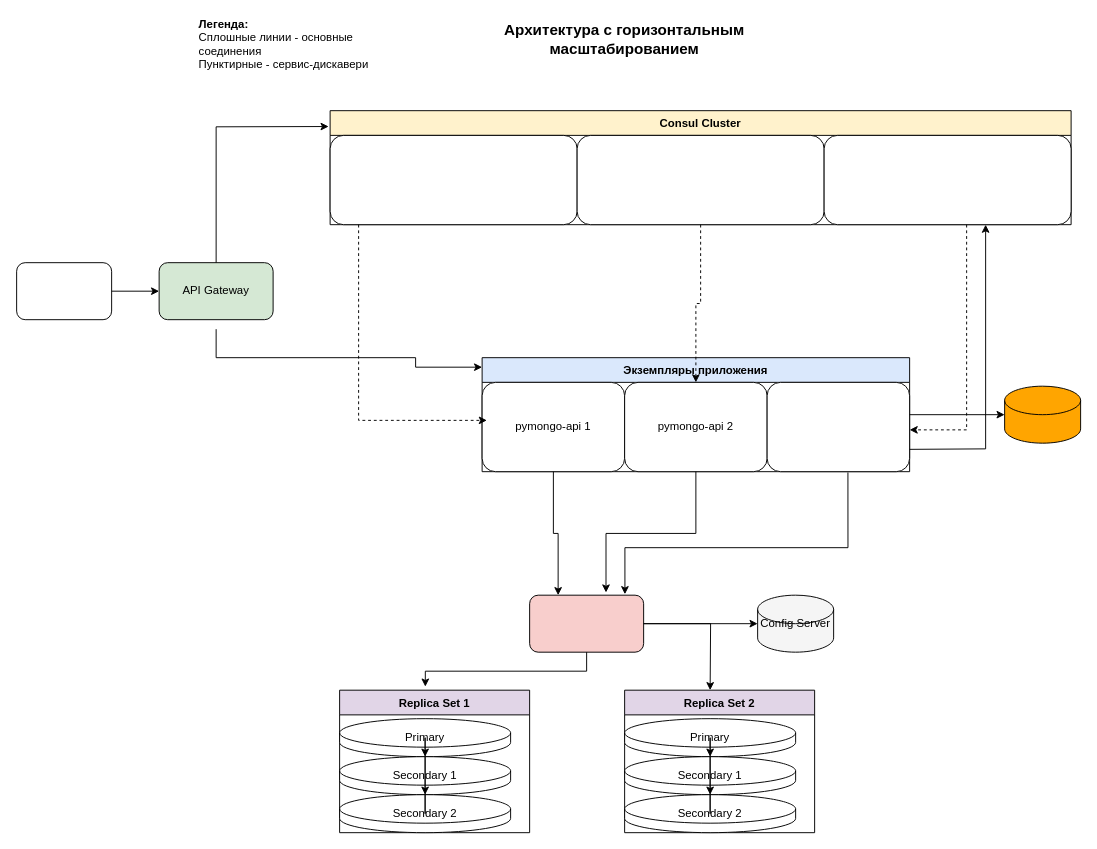
Image size: 1097x849. Some labels were removed from this diagram. The centre of each missing label's shape, as x and y in pixels:
Consul 1: point (453, 179)
Consul 2: point (700, 179)
Consul 3: point (947, 179)
Mongos Router: point (586, 623)
pymongo-api 3: point (838, 426)
Redis Cache: point (1042, 414)
Клиент: point (64, 291)
